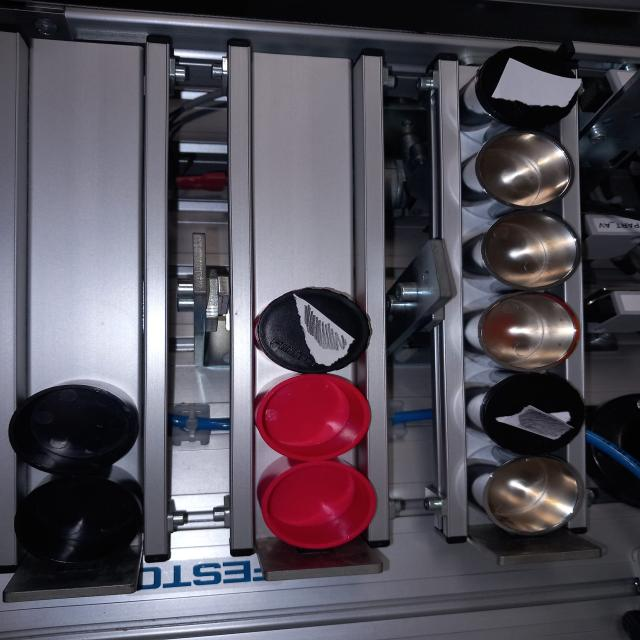NoLid: (255, 456, 381, 554), (8, 380, 137, 473), (22, 476, 144, 564), (474, 451, 582, 550), (459, 127, 578, 210), (454, 293, 577, 371), (254, 377, 372, 458), (470, 212, 582, 293)
